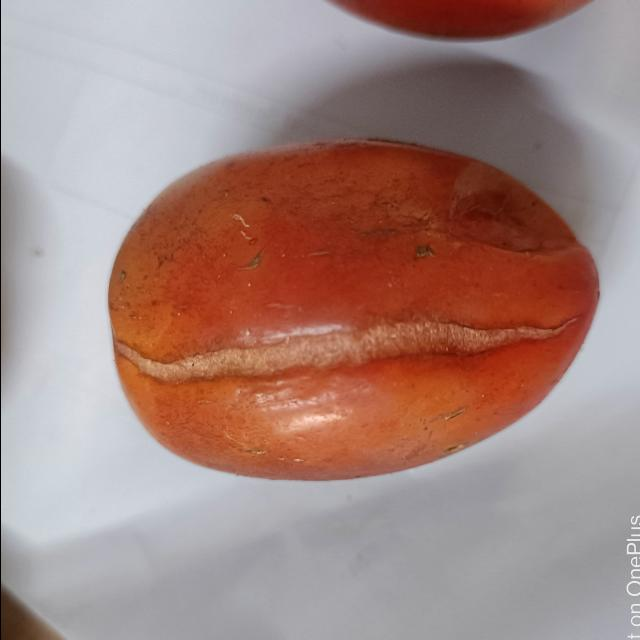tomato_cracking: (100, 307, 573, 387)
